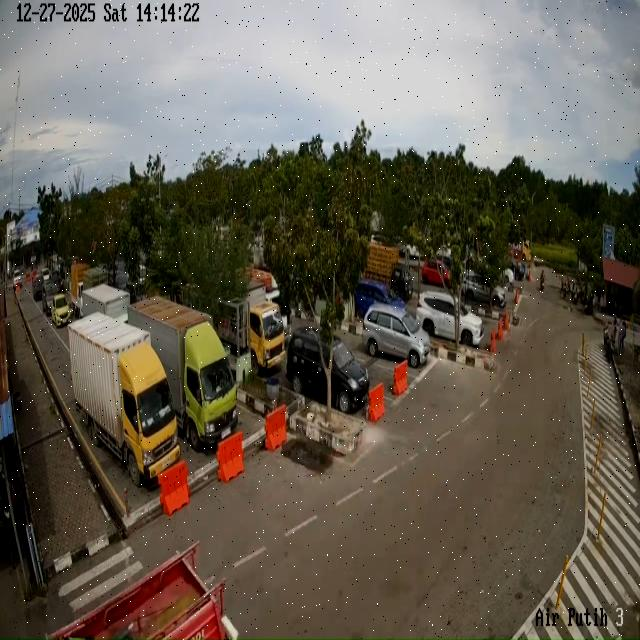Golongan IVA: (286, 327, 370, 413), (362, 304, 430, 369), (416, 290, 484, 347), (354, 279, 406, 320), (462, 272, 506, 308), (51, 294, 71, 328), (42, 280, 58, 315), (32, 274, 45, 301)
Golongan VB: (68, 313, 180, 486), (128, 296, 238, 452)
